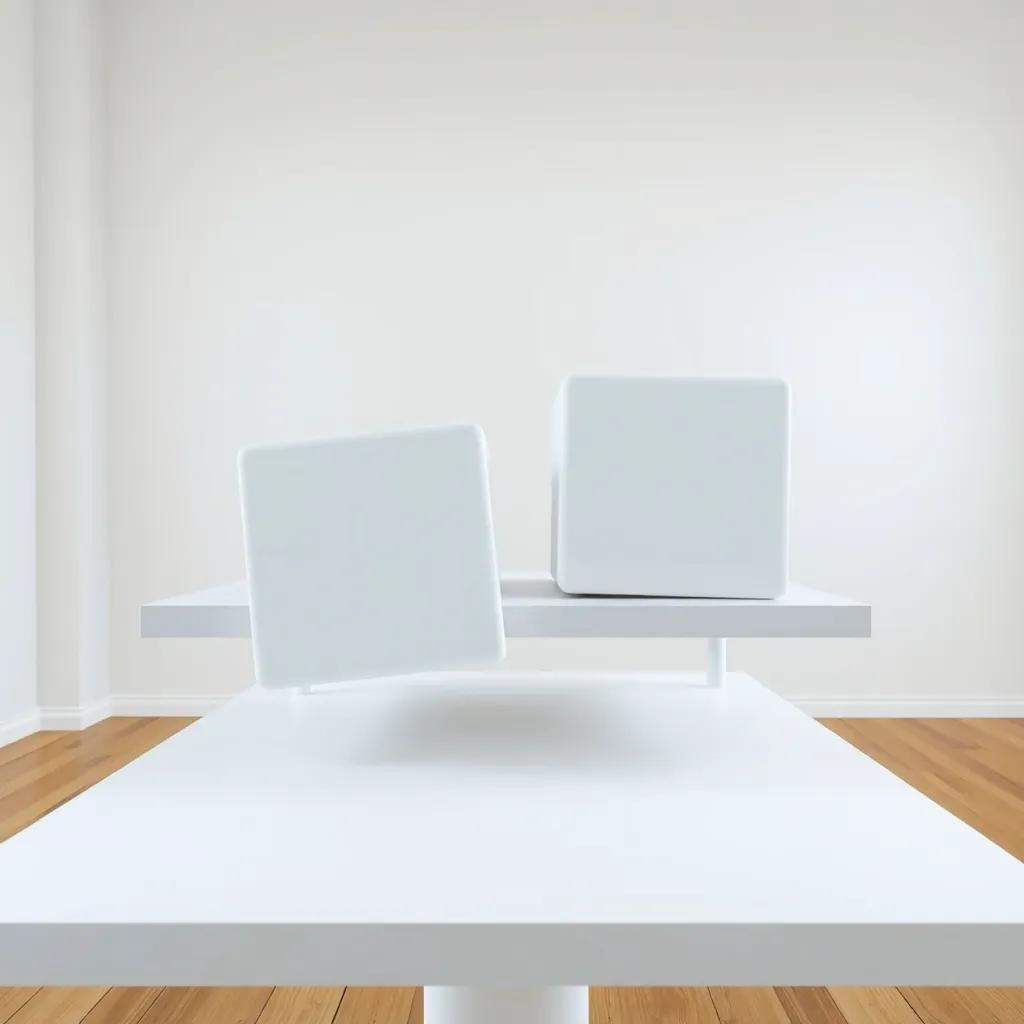cube: (238, 418, 506, 689), (549, 373, 790, 599)
